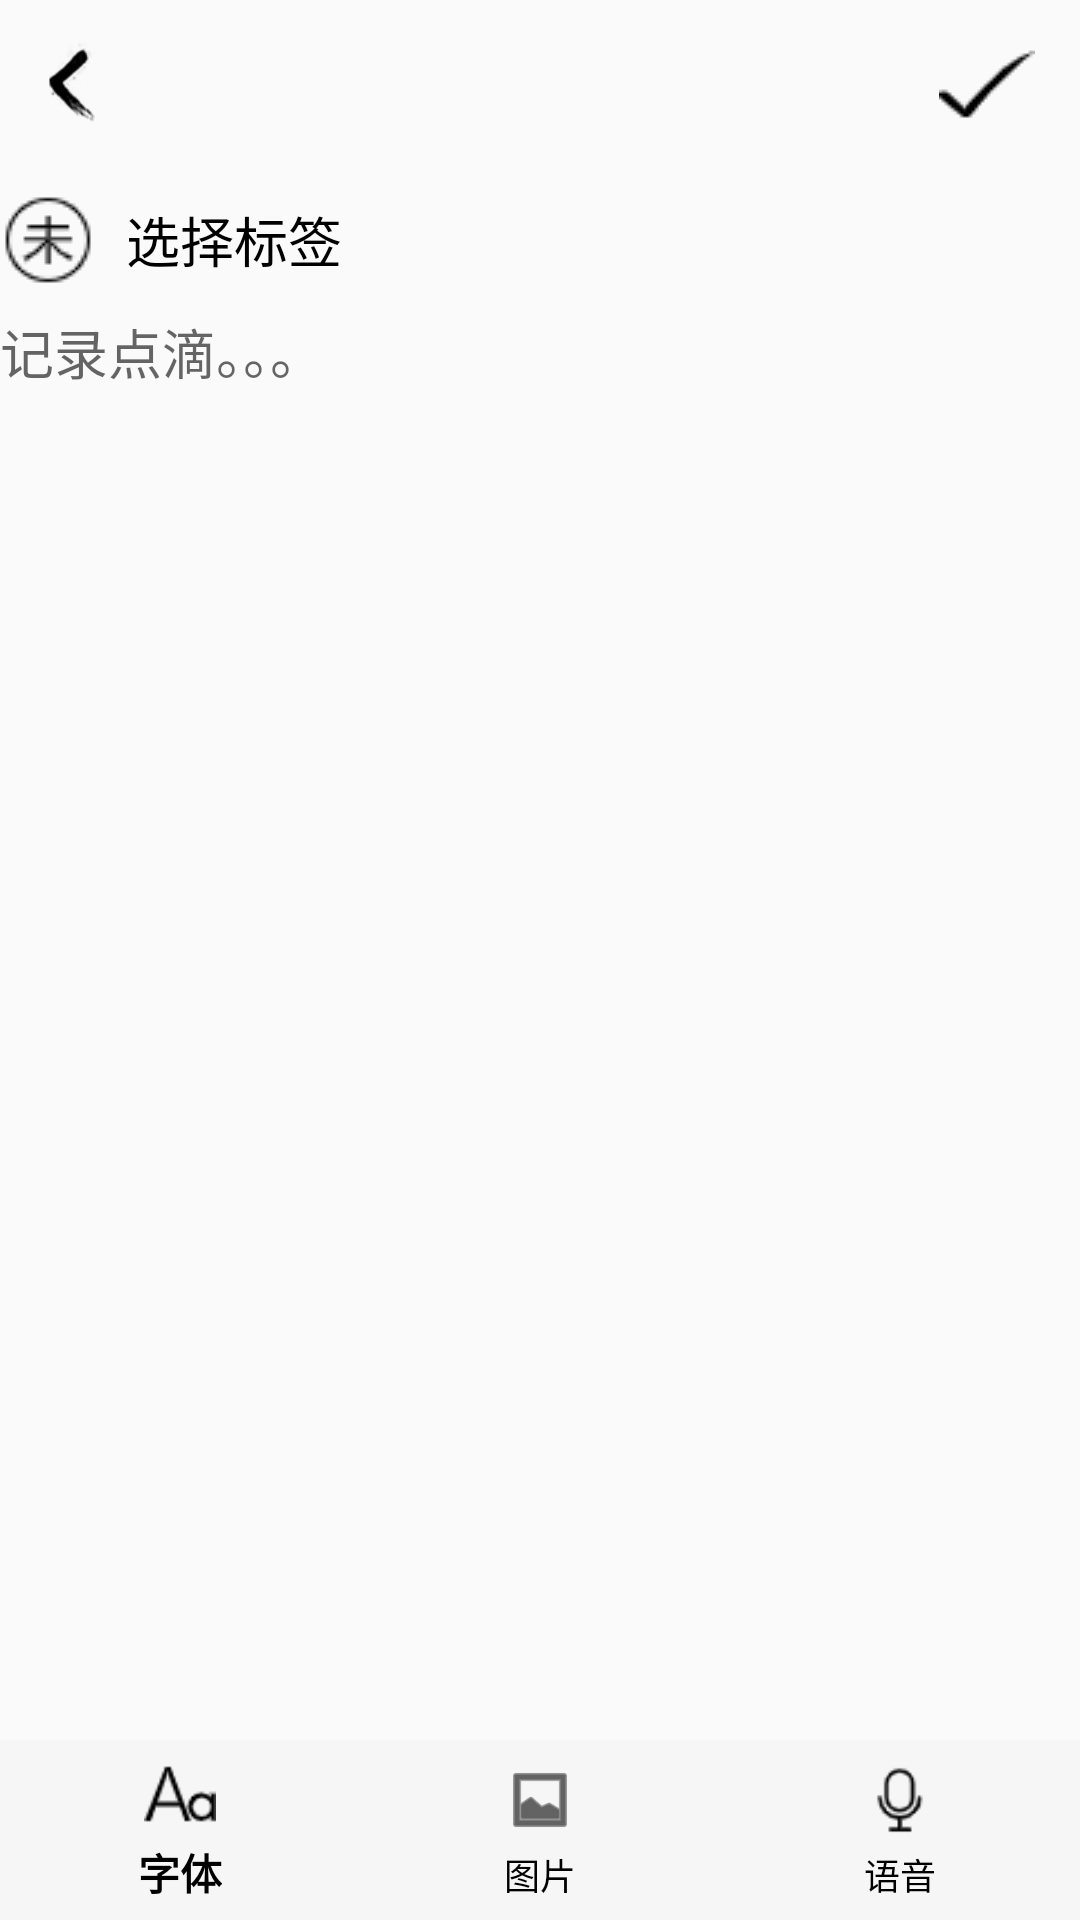

Named icons in this screenshot (1080px x 1920px) and their bounding boxes, (x1, y1, x2, y2):
yes: (939, 50, 1035, 118)
